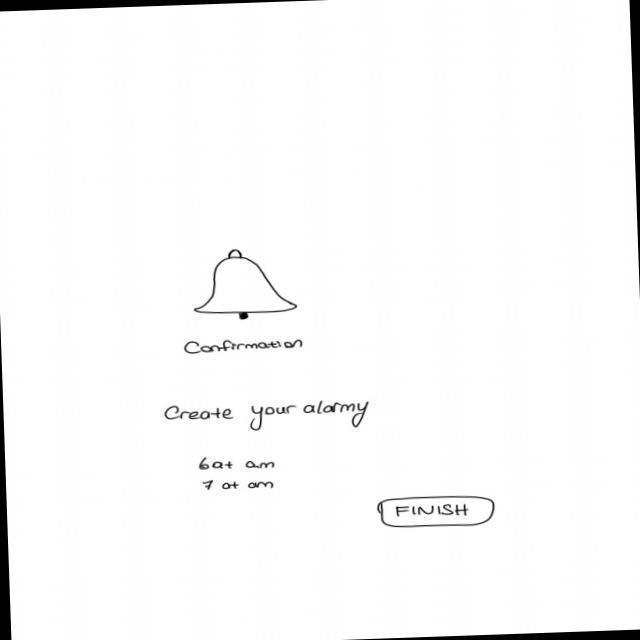button: (375, 493, 498, 530)
label: (162, 397, 372, 436), (182, 337, 305, 356), (198, 454, 281, 473), (200, 477, 276, 494)
